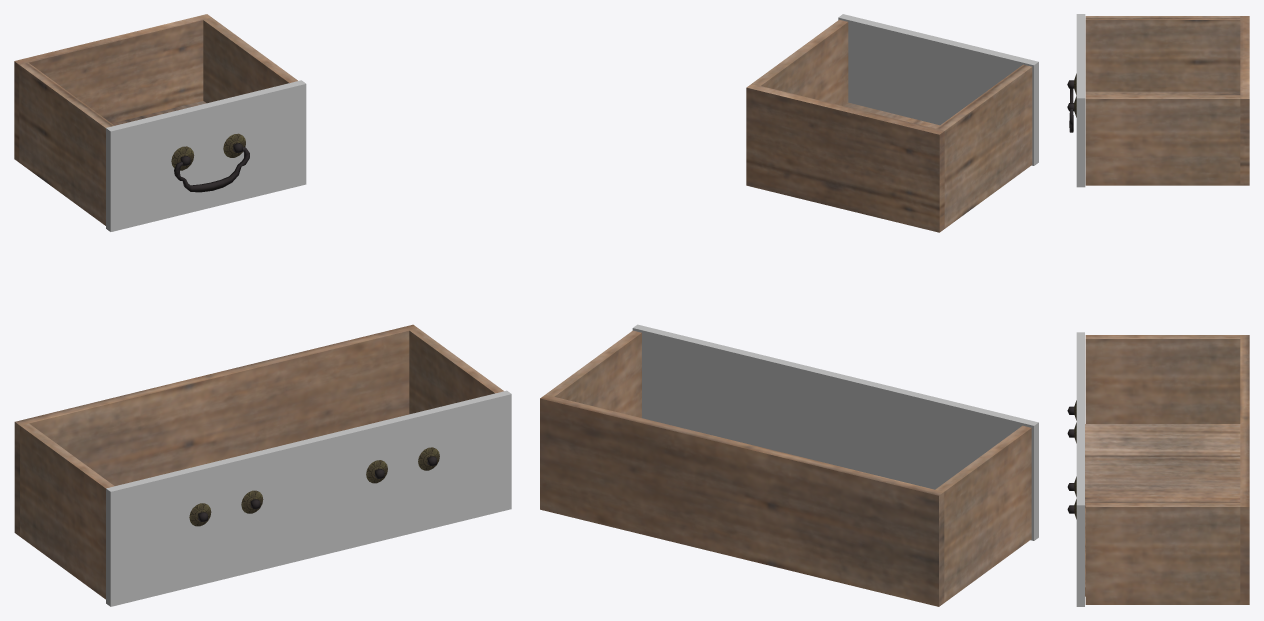
Rendered from jov_tansu01a.fbx.
3 renders of one model, left to right at view 1: azimuth 30°, elevation 25°; view 2: azimuth 150°, elevation 25°; view 3: azimuth 270°, elevation 25°, orthographic. The views are drawn at different scales.
Visible parts, largest first — view 1: jov_tansu01a_chest5, jov_tansu01a_chest1, jov_tansu01a_chesthundle01.008; view 2: jov_tansu01a_chest5, jov_tansu01a_chest1; view 3: jov_tansu01a_chest5, jov_tansu01a_chest1.
Part boxes in pixels (x1,y1,x2,y2): jov_tansu01a_chest5: (14,324,511,606); jov_tansu01a_chest1: (14,14,306,231); jov_tansu01a_chesthundle01.008: (174,146,249,192); jov_tansu01a_chest5: (540,324,1038,606); jov_tansu01a_chest1: (746,14,1038,232); jov_tansu01a_chest5: (1067,332,1249,606); jov_tansu01a_chest1: (1067,14,1249,187).
Size of what is drawn, in the model's own units: 1.1 by 1.25 by 0.4901.
